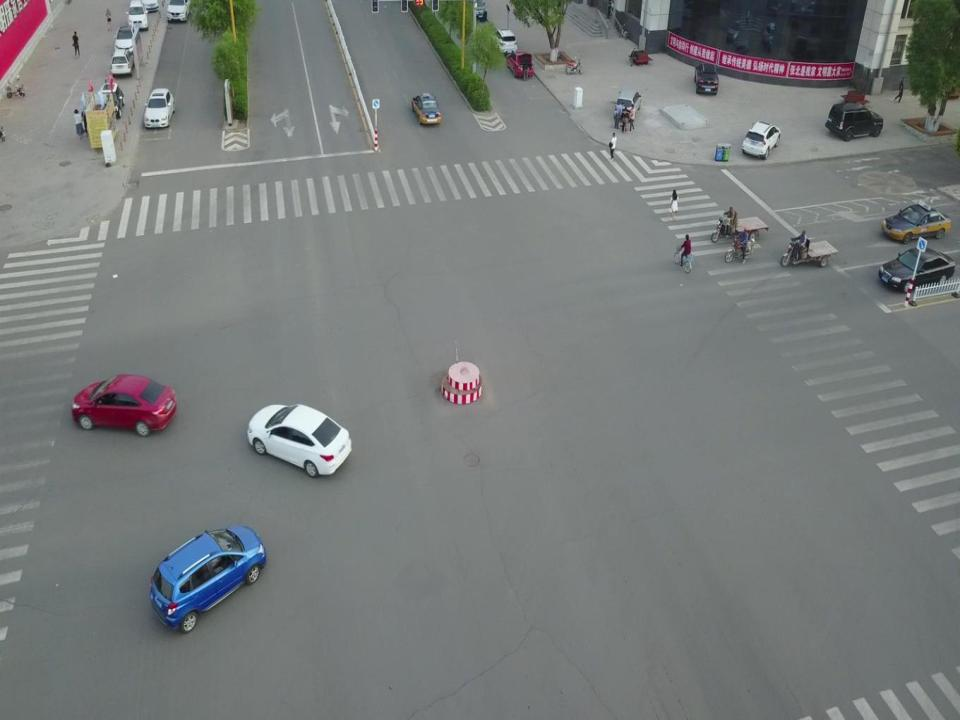car: (150, 522, 266, 634), (247, 403, 353, 477), (72, 374, 176, 436), (880, 245, 950, 291), (882, 199, 950, 241), (826, 102, 882, 139), (742, 121, 782, 160), (143, 87, 176, 129), (412, 93, 441, 125), (693, 61, 720, 94), (97, 82, 121, 119), (109, 49, 135, 78), (114, 24, 136, 56), (616, 87, 642, 114), (491, 30, 518, 55), (506, 53, 533, 77), (126, 3, 149, 30), (166, 1, 192, 23), (466, 0, 488, 22), (139, 0, 158, 15)
